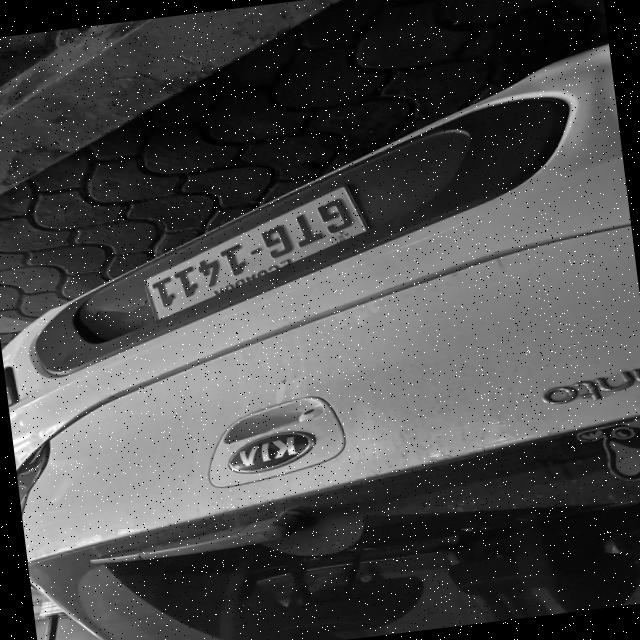Placa: (145, 187, 366, 318)
